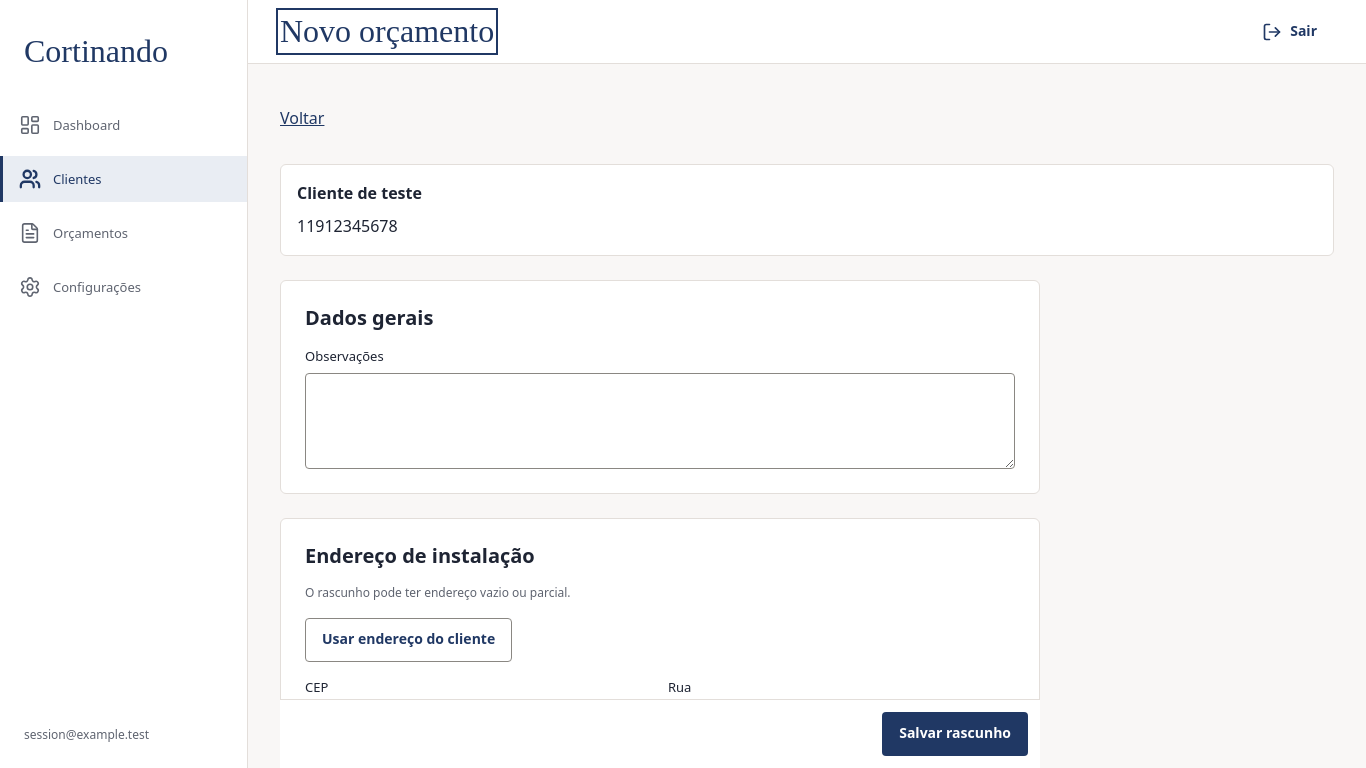
creates on first save, navigates without a discard dialog, then sends only changed fields via PATCH
The width and height of the screenshot is (1366, 768).
Type "local note" into the text box labelled "Observações" at (660, 421), box [305,373,1015,469]
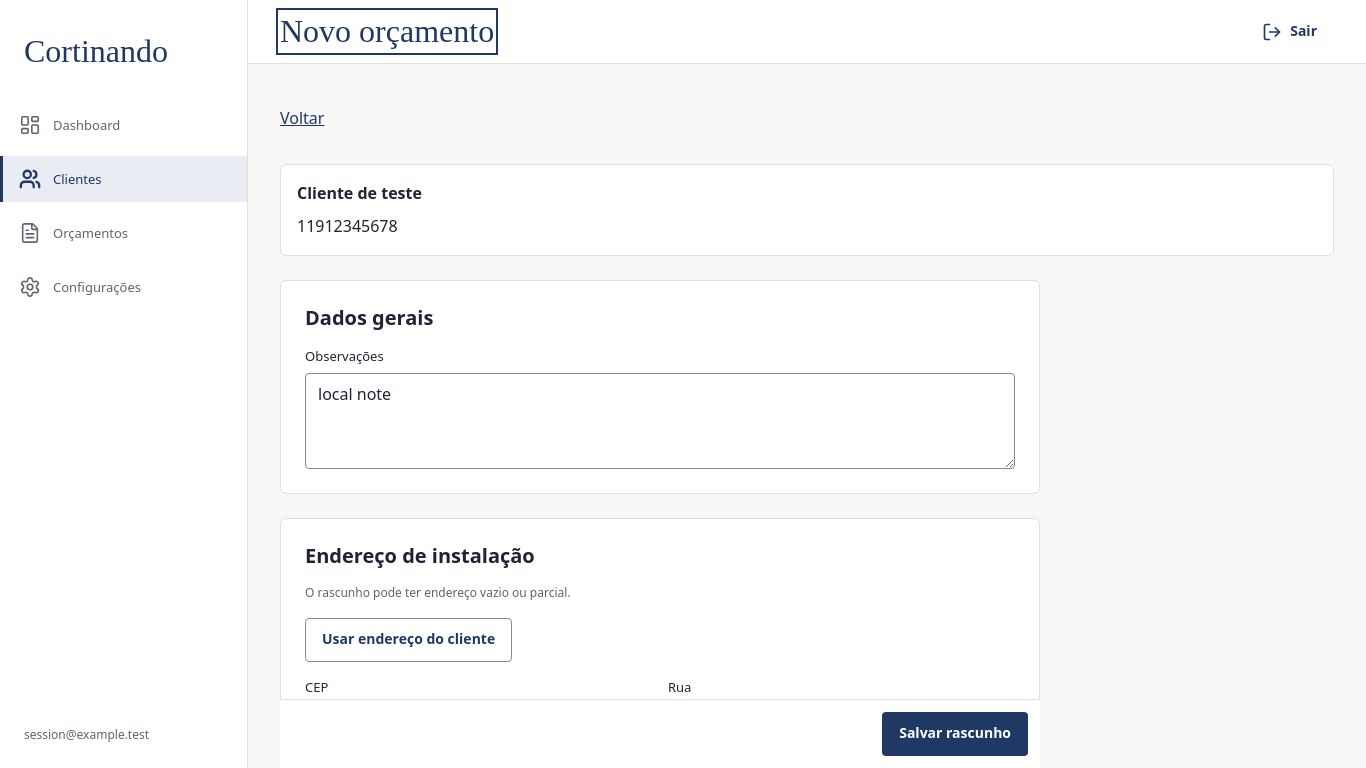
Click the button "Salvar rascunho" at (955, 734), box [882,712,1028,756]
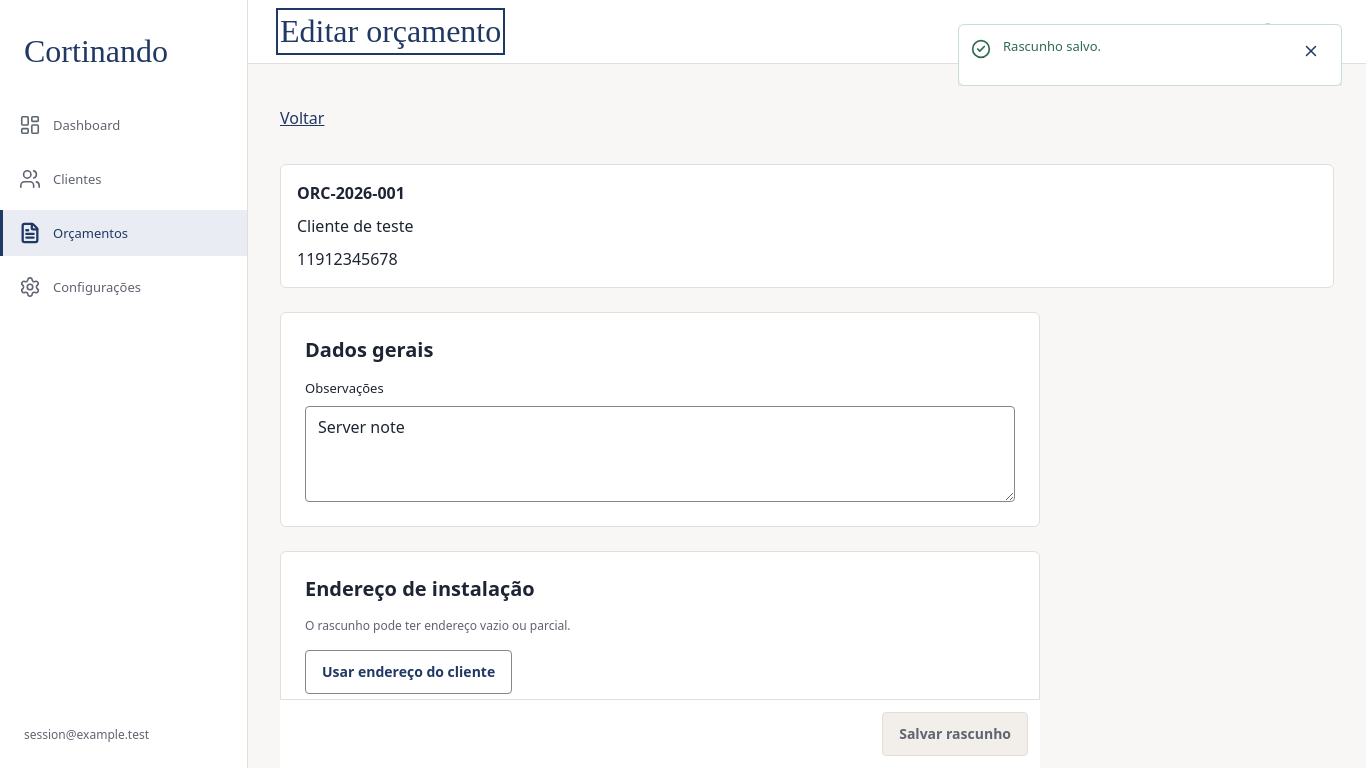
Now the text box labelled "Observações" holds "Server note"
Replace the text in the text box labelled "Observações" with "edited" at (660, 454), box [305,406,1015,502]
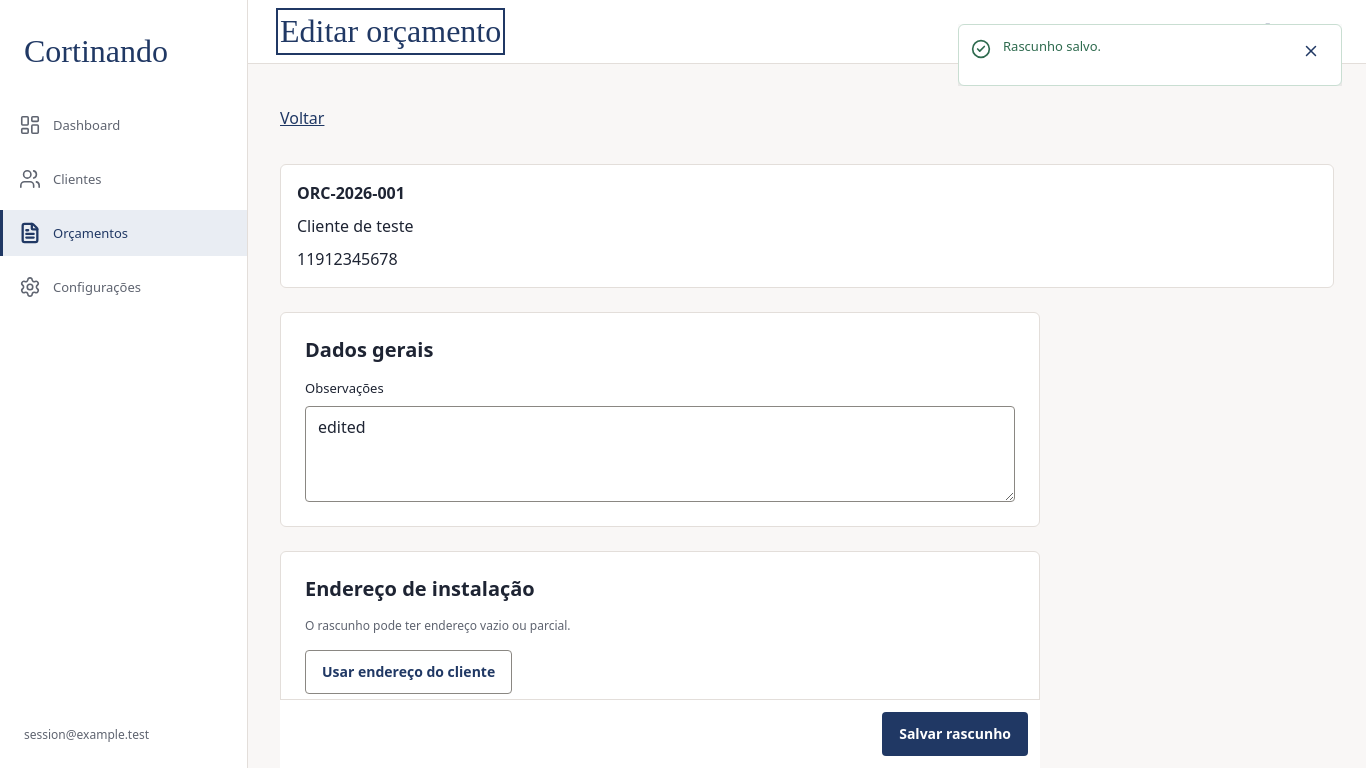
Click the button "Salvar rascunho" at (955, 734), box [882,712,1028,756]
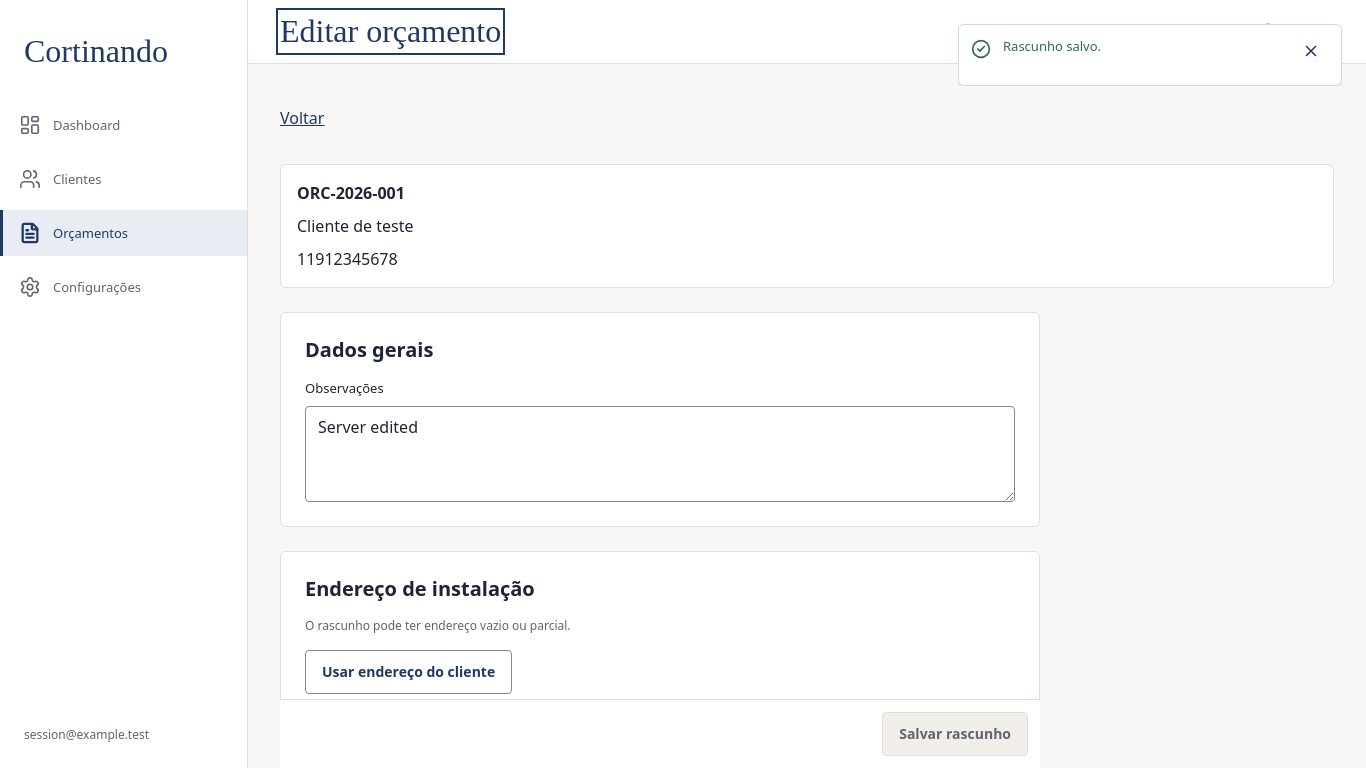
Now the text "Rascunho salvo." is shown, box [1003,37,1101,55]
Now the text box labelled "Observações" holds "Server edited", box [305,406,1015,502]
Now the button "Salvar rascunho" is disabled, box [882,712,1028,756]
